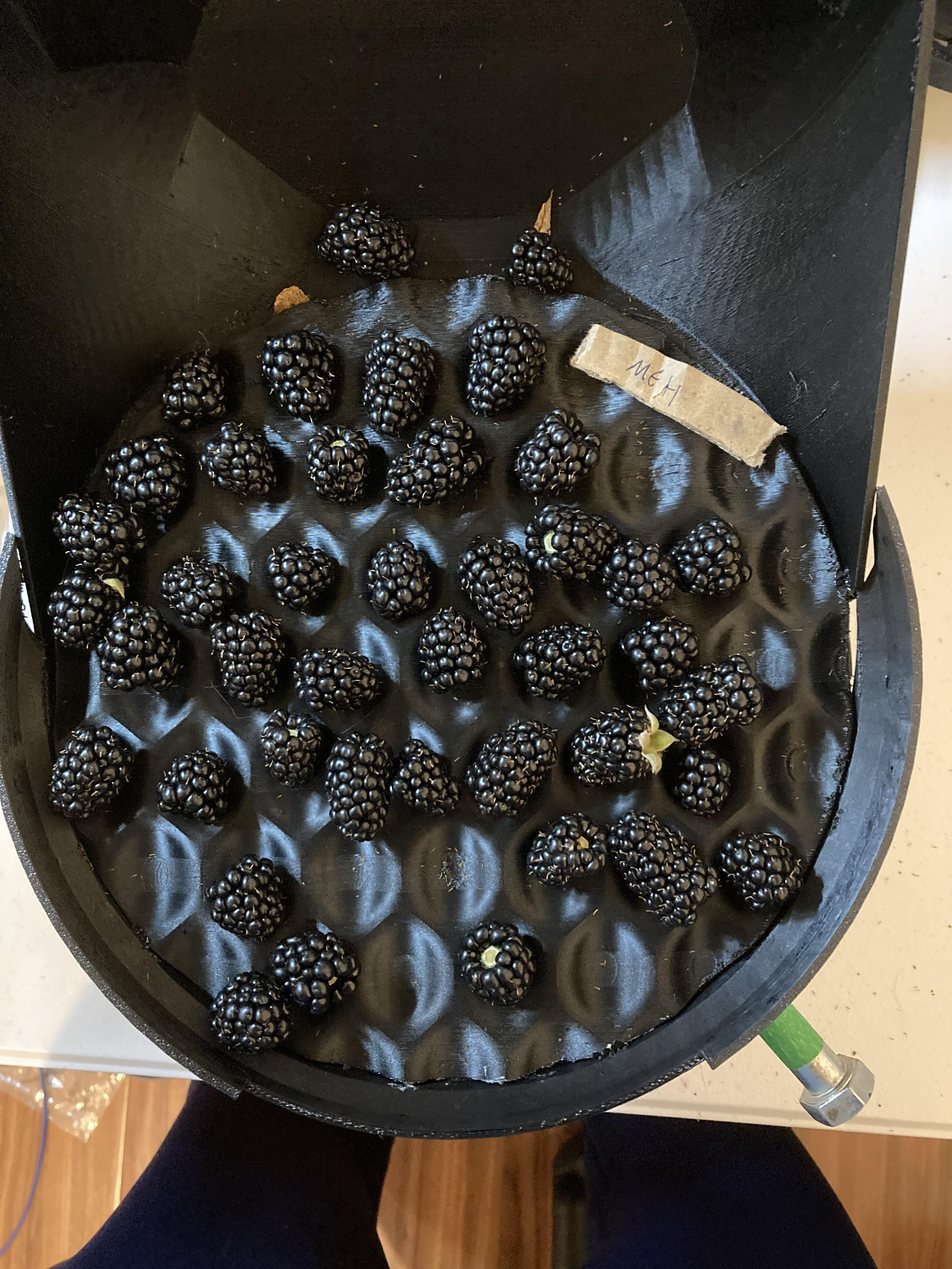berry: (609, 811, 706, 920), (464, 719, 553, 829), (657, 655, 763, 747), (360, 331, 439, 442), (49, 724, 137, 822), (387, 416, 483, 505), (570, 707, 675, 785), (269, 928, 360, 1018), (105, 435, 189, 532), (714, 829, 807, 914), (464, 319, 543, 416), (318, 200, 415, 279), (260, 325, 342, 418), (211, 856, 293, 949), (52, 495, 145, 576), (101, 605, 183, 696), (214, 612, 290, 710), (325, 735, 394, 840), (457, 538, 534, 632), (516, 410, 600, 494), (526, 504, 618, 580), (210, 971, 287, 1059), (199, 416, 281, 497), (668, 517, 746, 602), (513, 623, 602, 696), (48, 568, 124, 650), (460, 922, 535, 1005), (156, 751, 242, 822), (621, 616, 699, 693), (415, 610, 486, 692), (293, 648, 385, 711), (527, 814, 607, 886), (366, 539, 437, 618), (162, 553, 235, 629), (599, 539, 676, 610), (265, 539, 339, 612), (261, 710, 330, 787), (393, 737, 456, 816), (162, 353, 226, 430), (311, 430, 375, 505), (507, 229, 571, 293), (678, 751, 733, 816)
